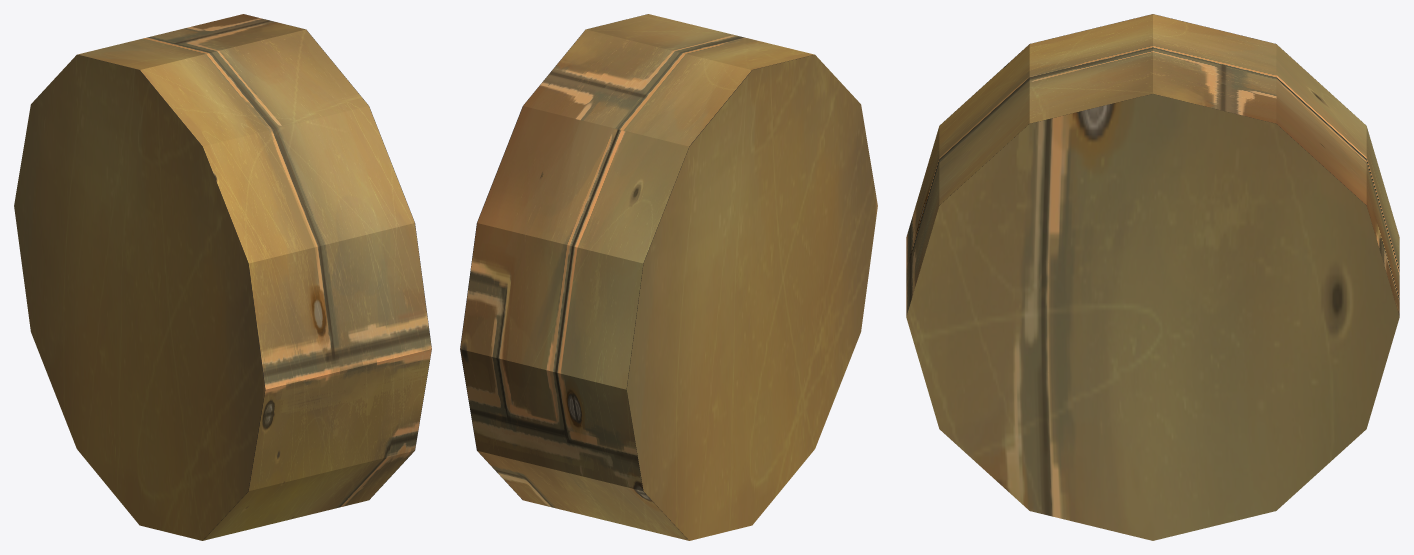
File: path.fbx
3 renders of one model, left to right at view 1: azimuth 30°, elevation 25°; view 2: azimuth 150°, elevation 25°; view 3: azimuth 270°, elevation 25°, orthographic.
Visible parts, largest first — view 1: pCylinder1; view 2: pCylinder1; view 3: pCylinder1.
Boxes of the visible parts, box(x1,y1,x2,y2) form: pCylinder1: box(14, 14, 431, 540); pCylinder1: box(460, 14, 877, 540); pCylinder1: box(906, 14, 1399, 540).
Size of the model in its own units: 4.31 by 11.26 by 11.26.
